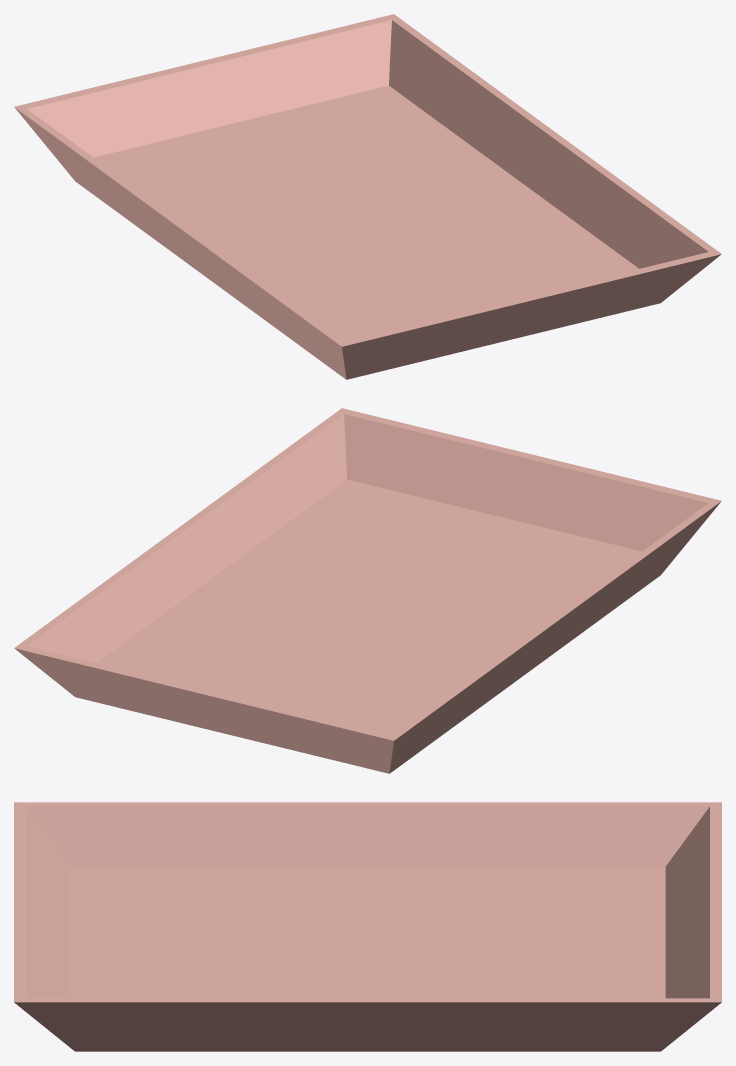
Rendered from plate_ck.fbx.
3 views of the same model, one above another, from view 1: azimuth 30°, elevation 25°; view 2: azimuth 150°, elevation 25°; view 3: azimuth 270°, elevation 25° (orthographic). The views are drawn at different scales.
Parts seen in each view (by area): view 1: Cube.004; view 2: Cube.004; view 3: Cube.004.
Part boxes in pixels (left/top/right/bottom): Cube.004: left=14, top=14, right=721, bottom=379; Cube.004: left=14, top=408, right=721, bottom=773; Cube.004: left=14, top=802, right=721, bottom=1051.
Size of the model in its own units: 304 by 47.24 by 454.
